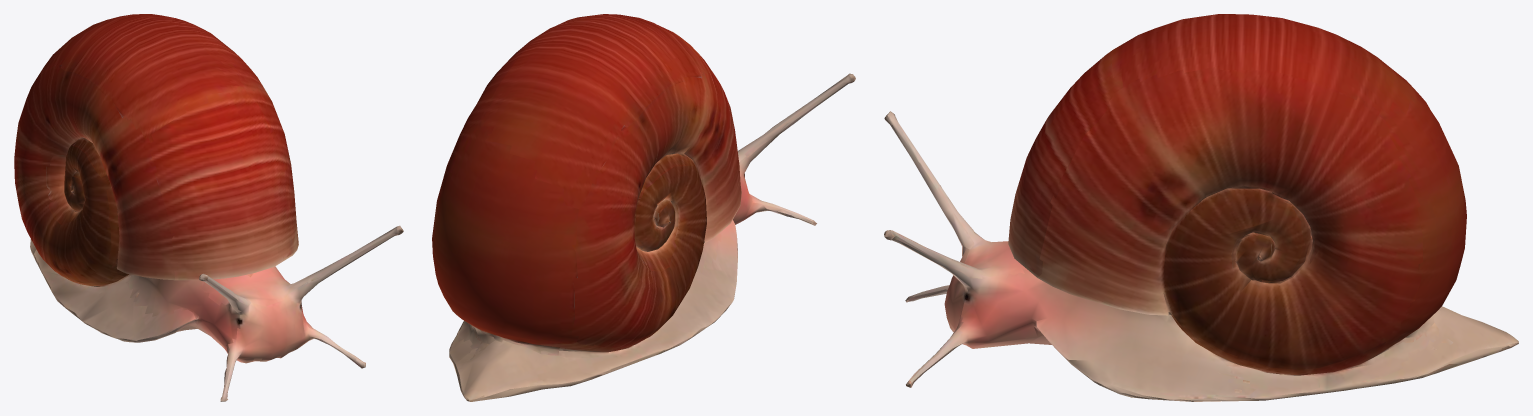
Rendered from snail_ramshorn.glb.
3 views of the same model, side by side, from view 1: azimuth 30°, elevation 25°; view 2: azimuth 150°, elevation 25°; view 3: azimuth 270°, elevation 25° (orthographic). The views are drawn at different scales.
Parts seen in each view (by area): view 1: Mesh0; view 2: Mesh0; view 3: Mesh0.
Part boxes in pixels (x1,y1,x2,y2): Mesh0: [14, 14, 403, 401]; Mesh0: [432, 14, 855, 401]; Mesh0: [884, 14, 1518, 401].
Bounding box in the file's own units: 0.8676 × 1.06 × 1.9.
1 material, 1 textured.
